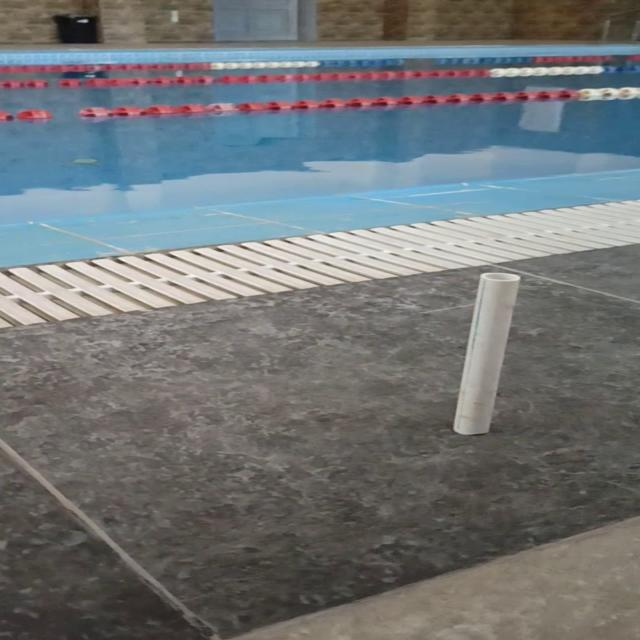Cube: (450, 271, 521, 435)
